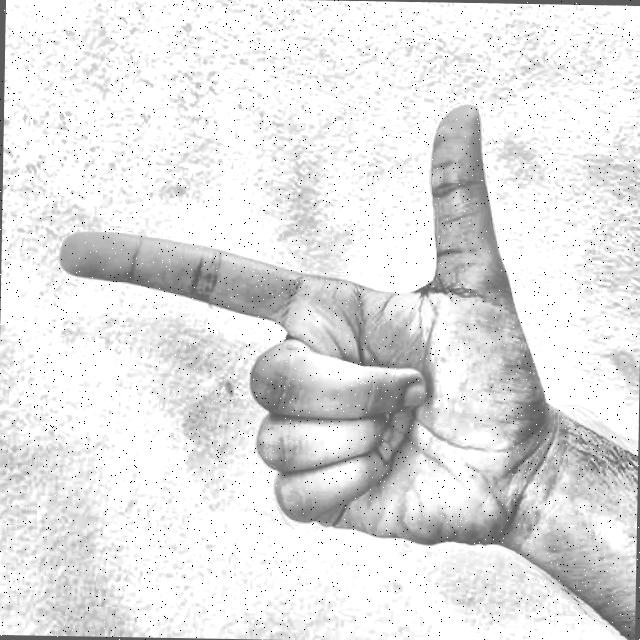Tha: (40, 47, 563, 592)
